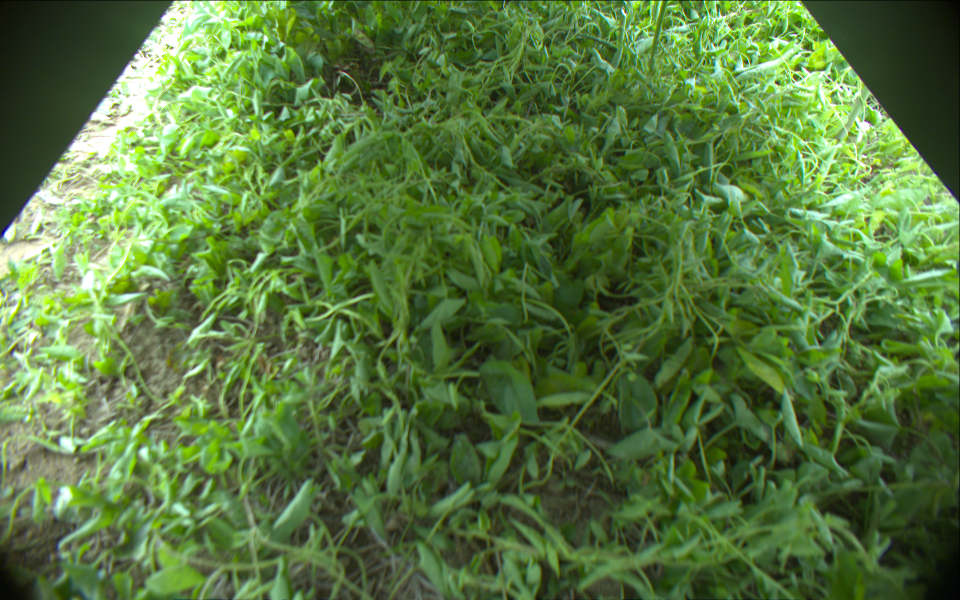aspa: (650, 1, 667, 64), (612, 8, 628, 69)
